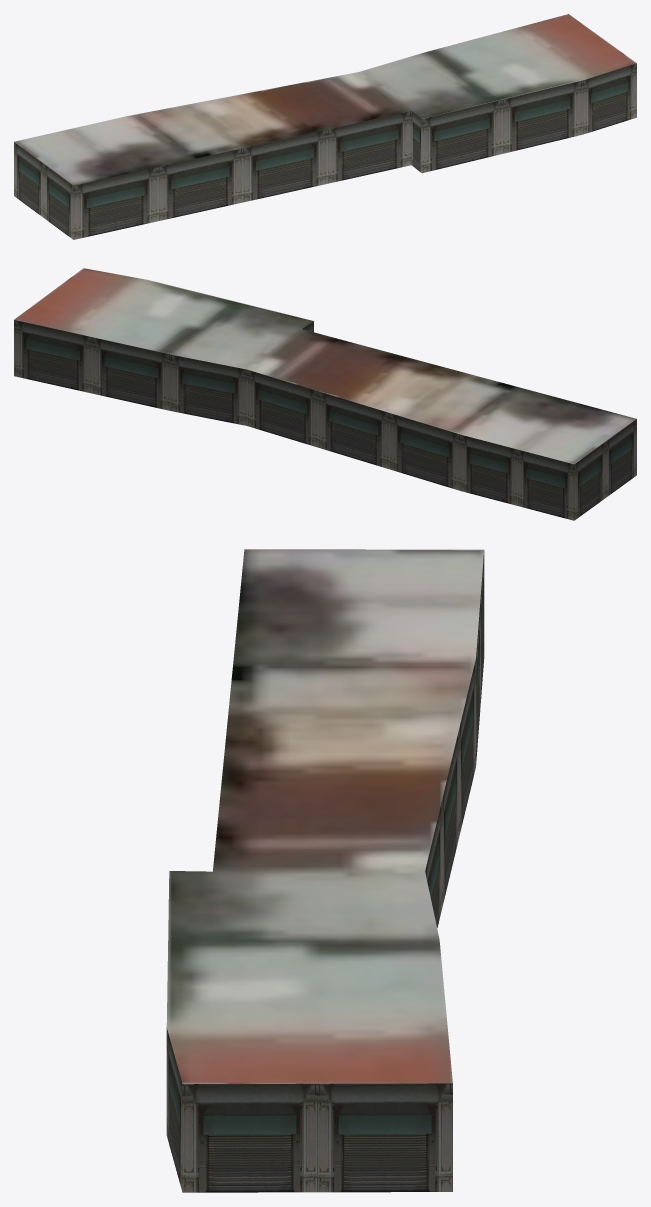
The picture shows the model from 3 angles, top to bottom: view 1: azimuth 30°, elevation 25°; view 2: azimuth 150°, elevation 25°; view 3: azimuth 270°, elevation 25°; orthographic projection. The views are drawn at different scales.
Parts seen in each view (by area): view 1: SketchUp (×6); view 2: SketchUp (×6); view 3: SketchUp (×5).
Boxes of the visible parts, x1,y1,x2,y2 form: SketchUp (×6): [14, 14, 636, 239]; SketchUp (×6): [14, 268, 636, 520]; SketchUp (×5): [166, 549, 484, 1192].
Bounding box in the file's own units: 32.43 × 8.14 × 3.07.
2 materials, 2 textured.
